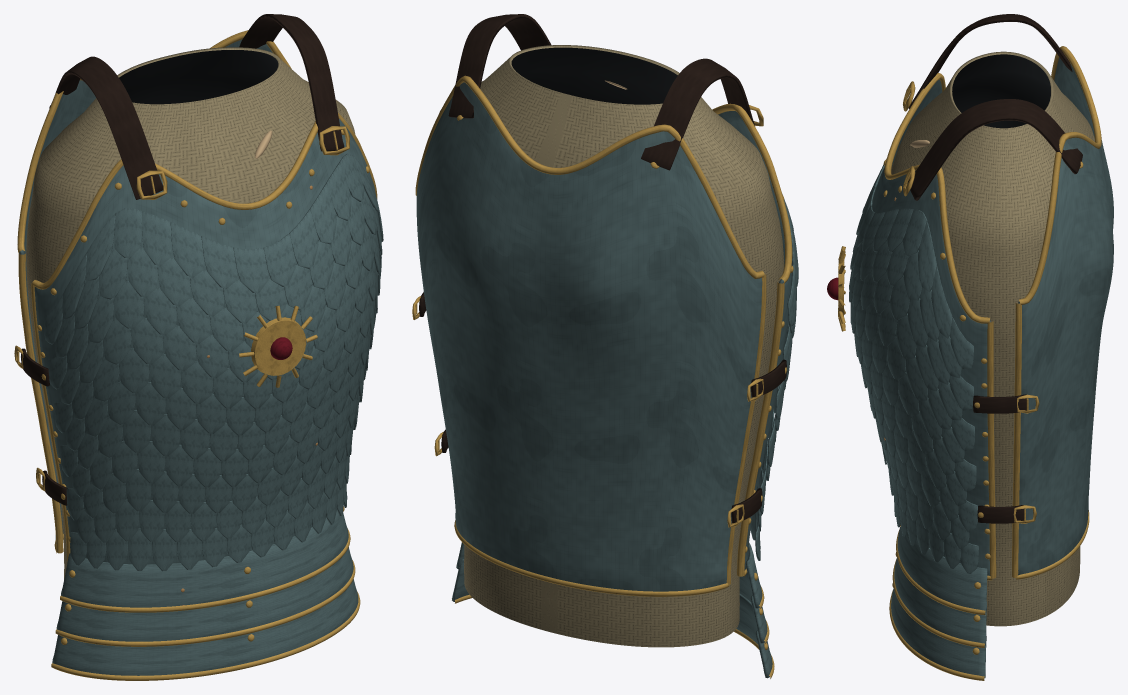
3 renders of one model, left to right at view 1: azimuth 30°, elevation 25°; view 2: azimuth 150°, elevation 25°; view 3: azimuth 270°, elevation 25°, orthographic. The views are drawn at different scales.
Visible parts, largest first — view 1: blued scale plate, quilted linen lining, gilded alloy, oiled strap leather, recess and lining; view 2: blued scale plate, quilted linen lining, gilded alloy, oiled strap leather, recess and lining; view 3: blued scale plate, quilted linen lining, gilded alloy, oiled strap leather, recess and lining.
Part boxes in pixels (<box>): blued scale plate: <box>19,39,383,675</box>; quilted linen lining: <box>26,47,355,579</box>; gilded alloy: <box>14,30,377,680</box>; oiled strap leather: <box>21,14,344,505</box>; recess and lining: <box>119,50,278,104</box>; blued scale plate: <box>416,82,798,678</box>; quilted linen lining: <box>439,45,783,647</box>; gilded alloy: <box>412,75,793,678</box>; oiled strap leather: <box>419,14,786,523</box>; recess and lining: <box>511,47,677,104</box>; blued scale plate: <box>849,57,1113,678</box>; quilted linen lining: <box>891,51,1094,626</box>; gilded alloy: <box>838,46,1101,680</box>; oiled strap leather: <box>908,14,1082,523</box>; recess and lining: <box>952,54,1050,128</box>.
Size of the model in its own units: 0.3926 by 0.6466 by 0.304.
8 materials, 5 textured.
